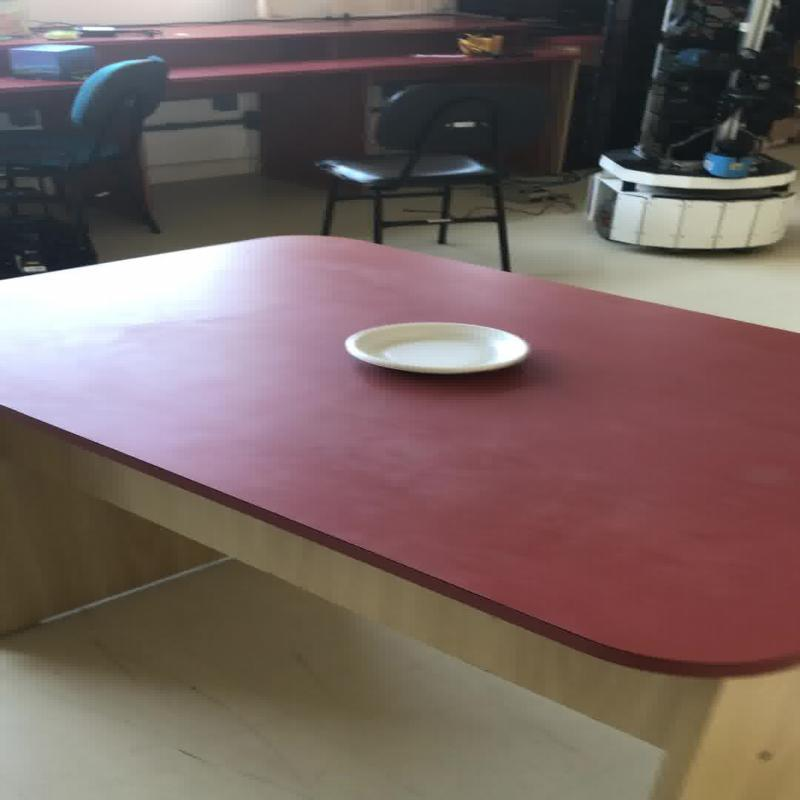plate: (342, 320, 528, 375)
